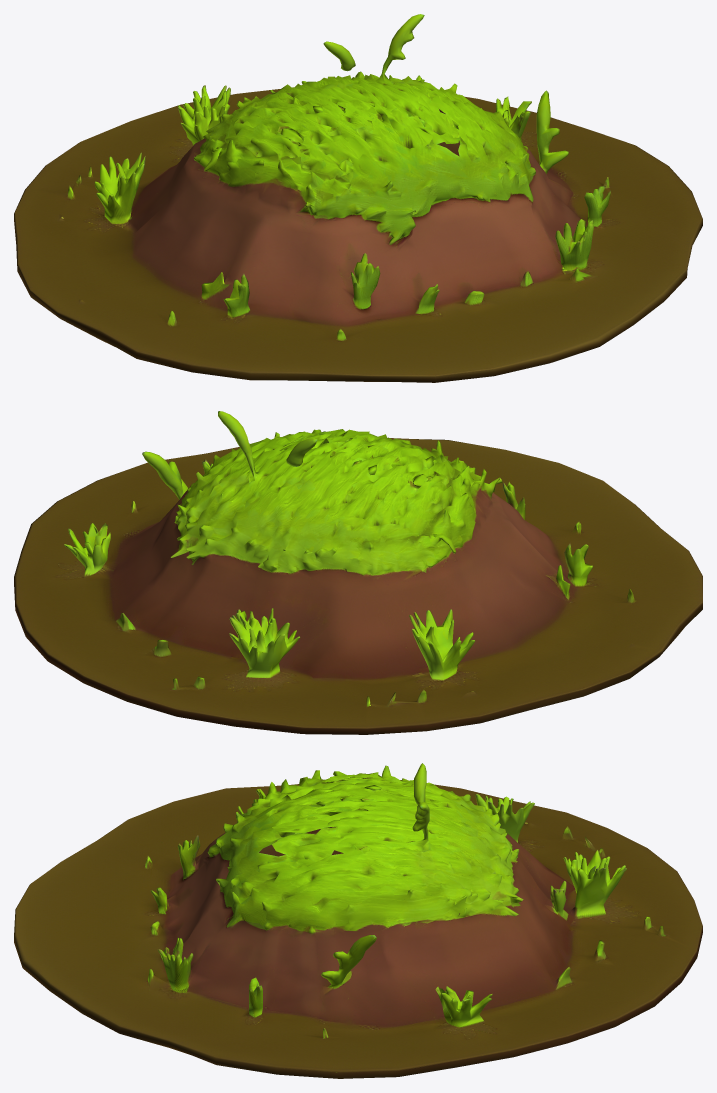
File: bog_hummock.glb
3 views of the same model, one above another, from view 1: azimuth 30°, elevation 25°; view 2: azimuth 150°, elevation 25°; view 3: azimuth 270°, elevation 25° (orthographic).
Size of the model in its own units: 1.91 by 0.5362 by 1.89.
Materials: 1 (1 with a texture image).
